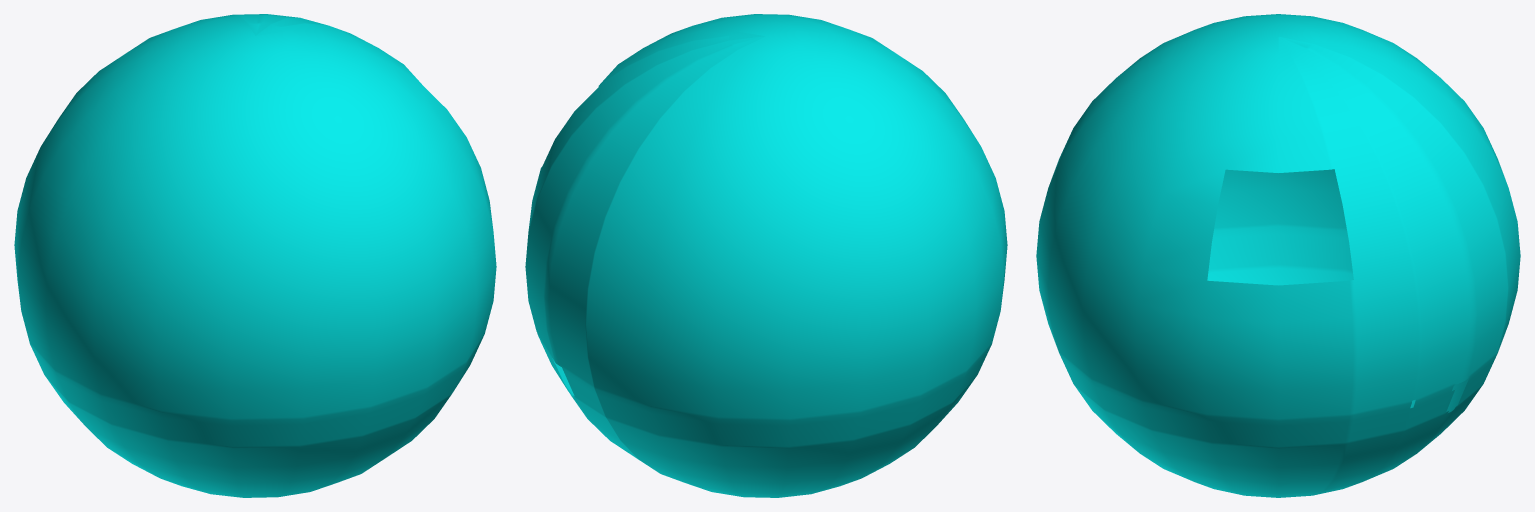
The model's file is Earth_Water.fbx.
3 views of the same model, side by side, from view 1: azimuth 30°, elevation 25°; view 2: azimuth 150°, elevation 25°; view 3: azimuth 270°, elevation 25° (orthographic).
Visible parts, largest first — view 1: pSphere1; view 2: pSphere1; view 3: pSphere1.
Part boxes in pixels (left/top/right/bottom): pSphere1: left=14, top=14, right=496, bottom=497; pSphere1: left=525, top=14, right=1007, bottom=497; pSphere1: left=1036, top=14, right=1520, bottom=497.
Bounding box in the file's own units: 8.12 × 7.85 × 8.12.
